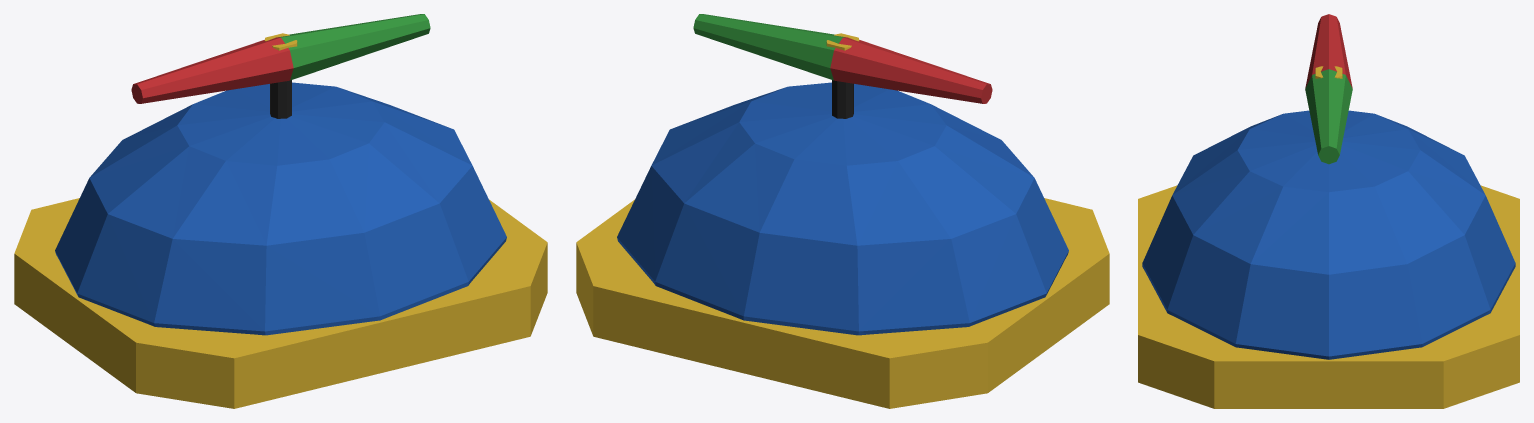
The model's file is prop.glb.
3 renders of one model, left to right at view 1: azimuth 30°, elevation 25°; view 2: azimuth 150°, elevation 25°; view 3: azimuth 270°, elevation 25°, orthographic. The views are drawn at different scales.
Parts seen in each view (by area): view 1: Prop Hat.002; view 2: Prop Hat.002; view 3: Prop Hat.002.
Boxes of the visible parts, x1=… form: Prop Hat.002: x1=14, y1=14, x2=547, y2=408; Prop Hat.002: x1=576, y1=14, x2=1109, y2=408; Prop Hat.002: x1=1138, y1=14, x2=1519, y2=408.
Bounding box in the file's own units: 0.6798 × 0.412 × 0.5808.
